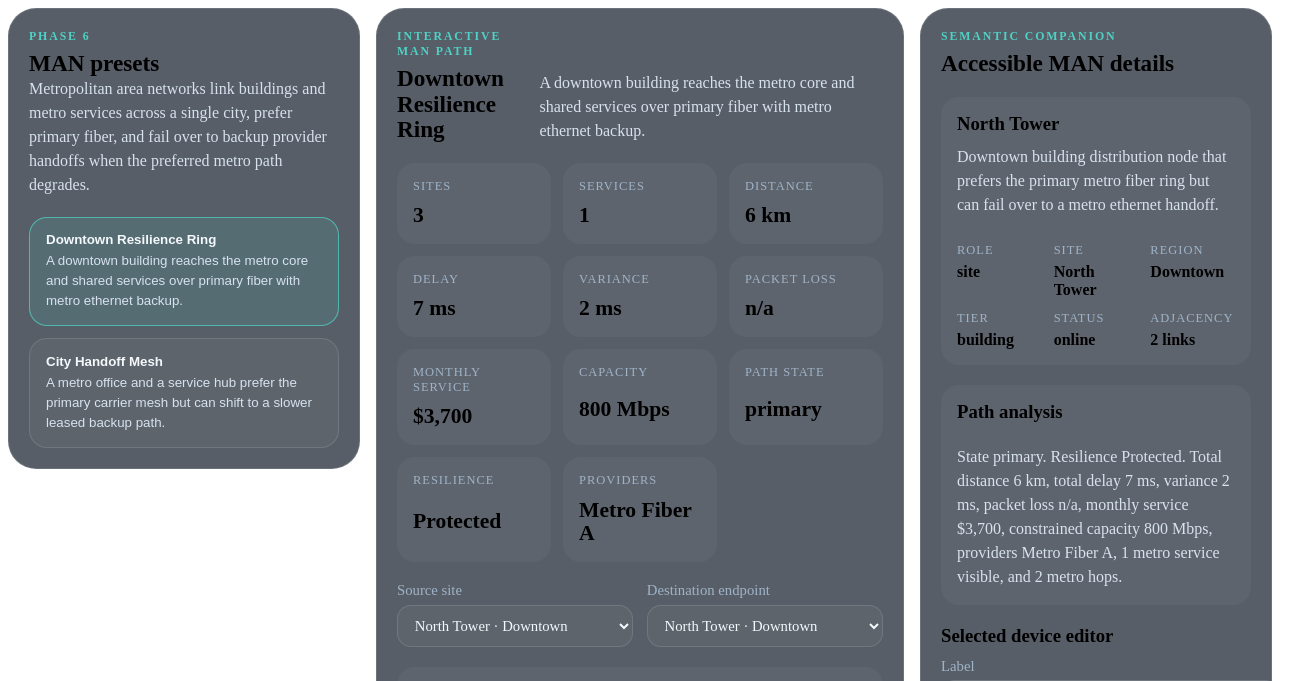
Test: ManPageComponent › focuses the selected source site in the MAN details panel
The width and height of the screenshot is (1292, 681).
Select "South Campus · Riverfront" in the dropdown labelled "Source site": point(515, 626) left=397, top=605, right=633, bottom=647
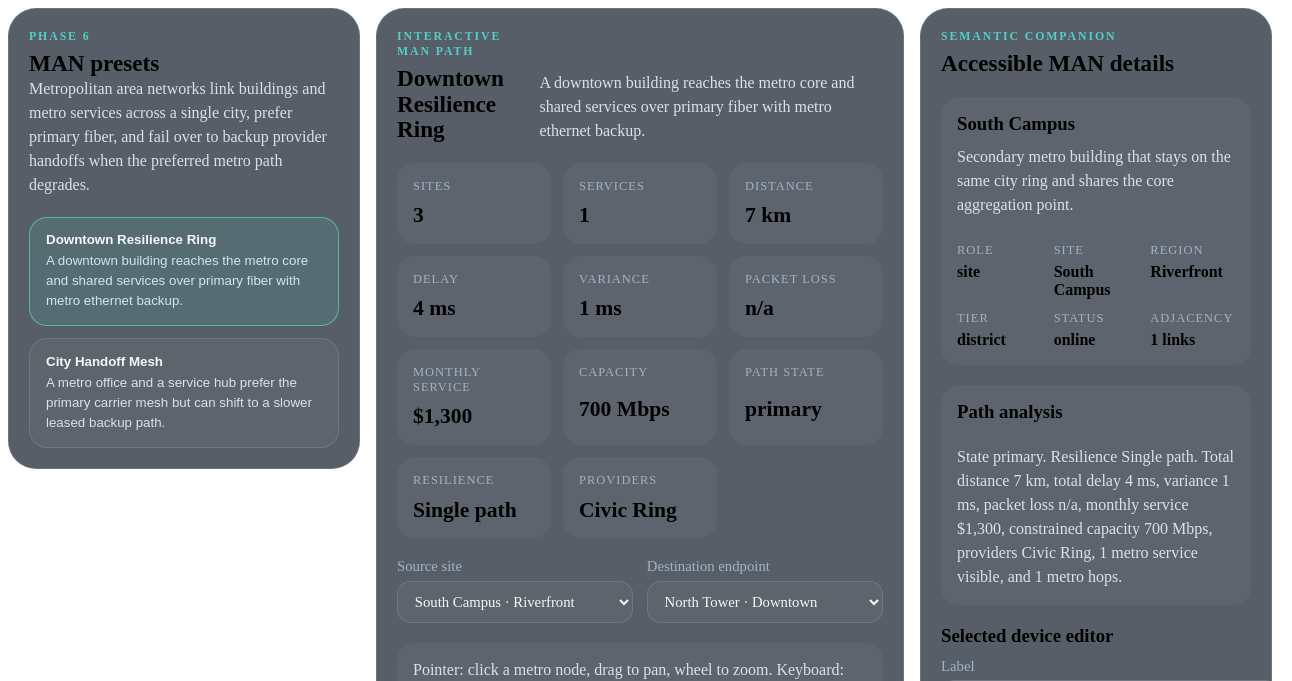
expect the text "South Campus" is shown: met, box left=957, top=113, right=1075, bottom=134
expect the text "Secondary metro building that stays on the same city ring and shares the core aggregation point." is shown: met, box left=957, top=148, right=1231, bottom=213
